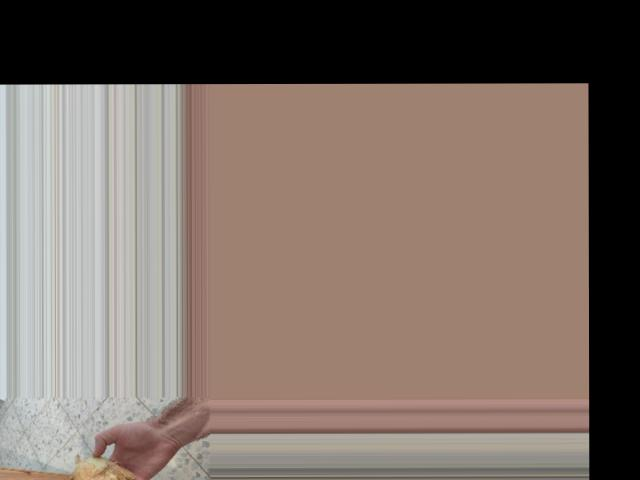onion: (69, 454, 139, 480)
